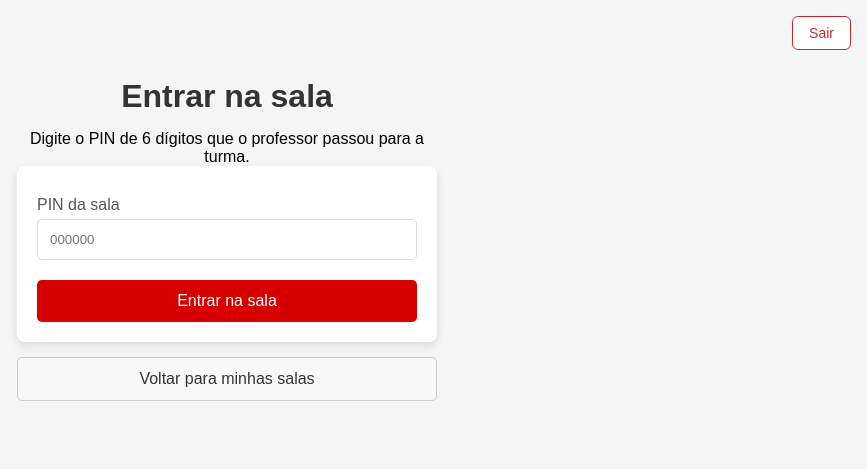
Test: EntrarComPin — a recusa não conta nada (AC-SALA-04, AC-SEC-05) › PIN de sala arquivada dá a MESMA frase de PIN inexistente
Expected: the heading "Entrar na sala" is shown, x1=121 y1=78 x2=333 y2=114
In the field labelled "PIN da sala": coordinates (227, 239) x1=37 y1=219 x2=417 y2=260, type "481502"
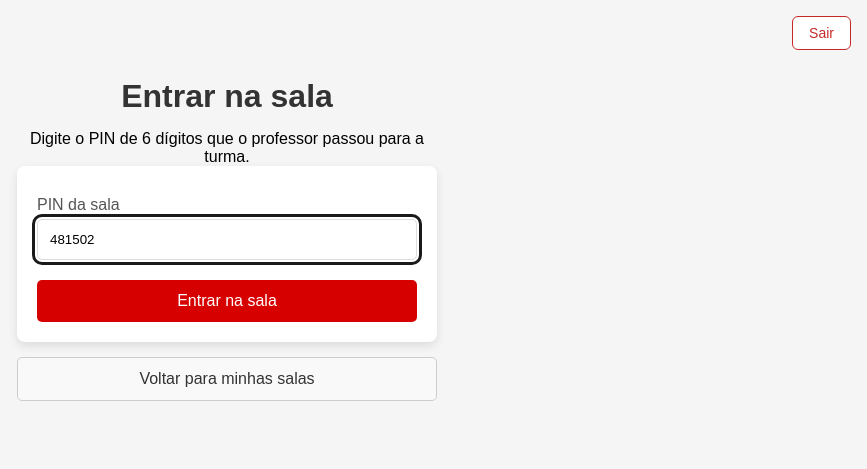
Click the button "Entrar na sala": coordinates (227, 301) x1=37 y1=280 x2=417 y2=322
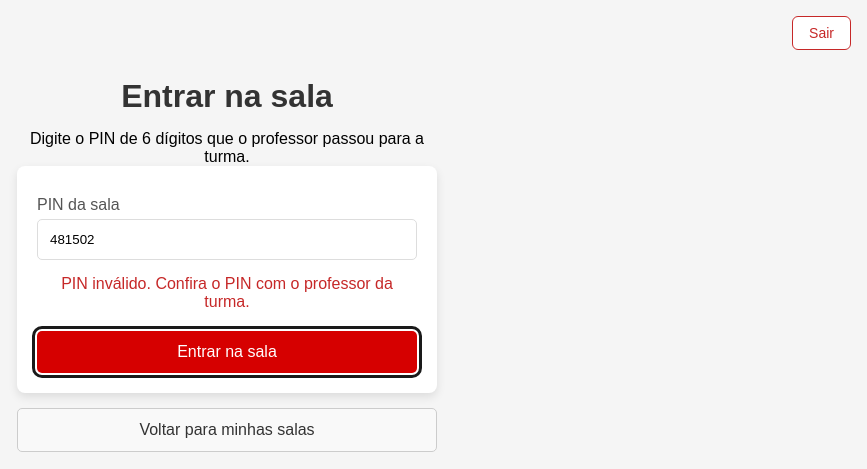
Expected: the message reads "PIN inválido. Confira o PIN com o professor da turma.", x1=61 y1=275 x2=393 y2=310
